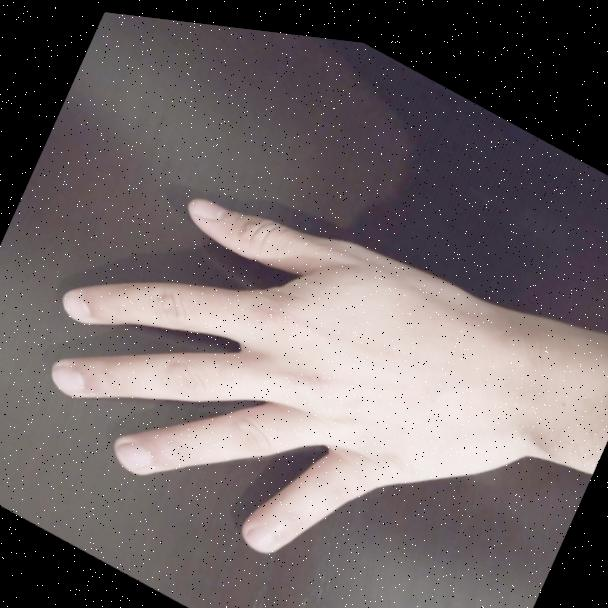five: (0, 93, 557, 608)
